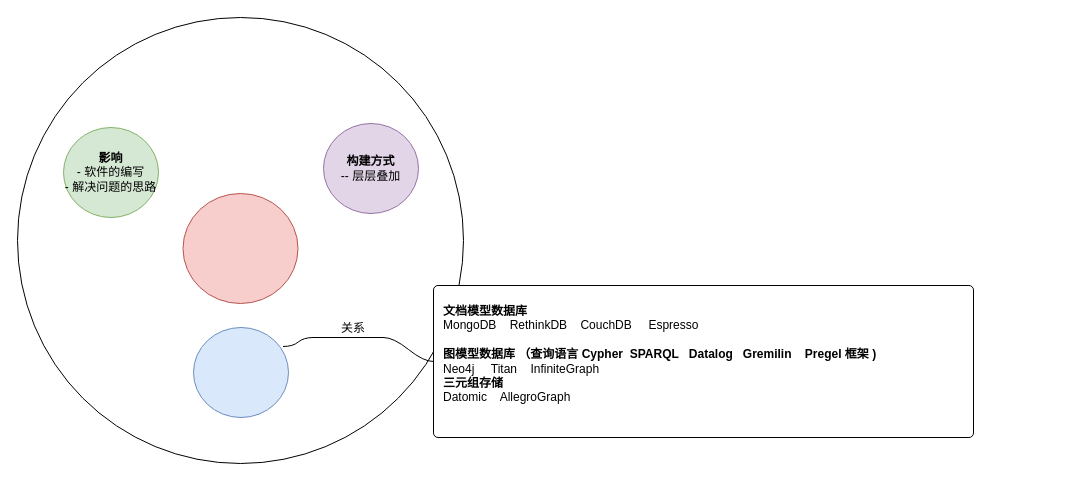
The diagram is 1082 pixels wide and 481 high, and some of its shapes have lost their labels. The centre of each missing label's shape, as x and y in pixels:
数据模型 -- 软件开发中最核心的部分: point 240,248
类型: point 240,372
